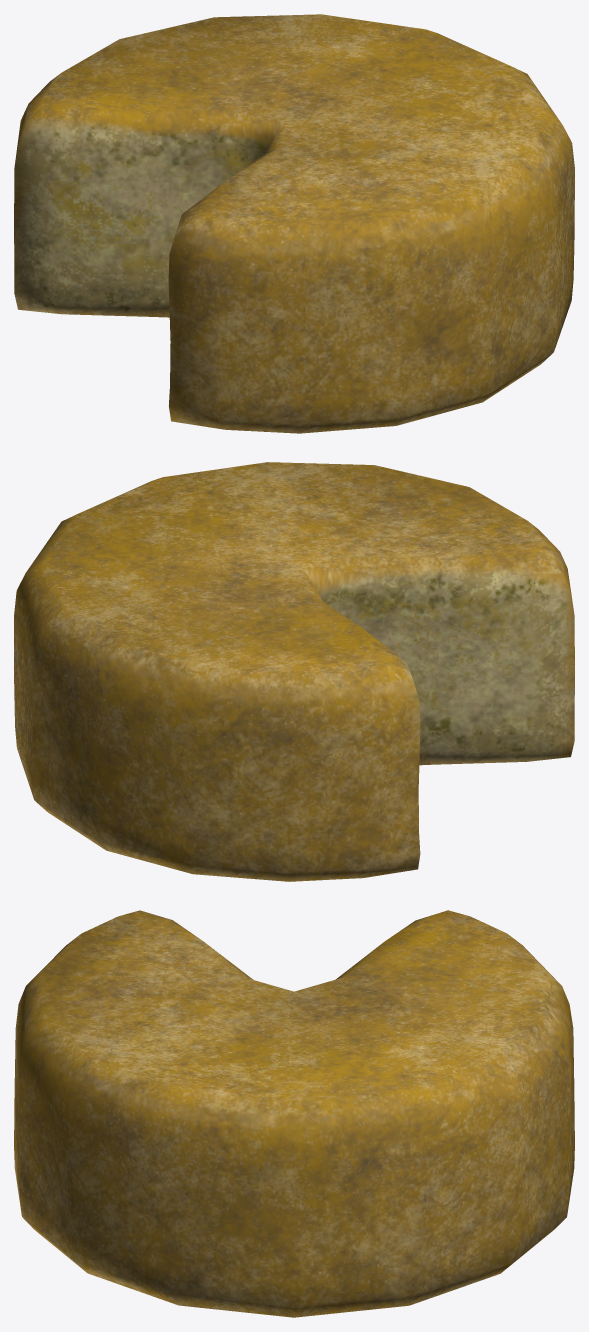
The model's file is CAMP_cheese_wheel_B.fbx.
3 renders of one model, top to bottom at view 1: azimuth 30°, elevation 25°; view 2: azimuth 150°, elevation 25°; view 3: azimuth 270°, elevation 25°, orthographic.
Visible parts, largest first — view 1: CAMP_cheese_wheel_B; view 2: CAMP_cheese_wheel_B; view 3: CAMP_cheese_wheel_B.
Boxes of the visible parts, left/top/right/bottom form: CAMP_cheese_wheel_B: left=14, top=14, right=574, bottom=433; CAMP_cheese_wheel_B: left=14, top=462, right=574, bottom=881; CAMP_cheese_wheel_B: left=14, top=910, right=574, bottom=1317.
Size of the model in its own units: 30.53 by 13.65 by 33.
